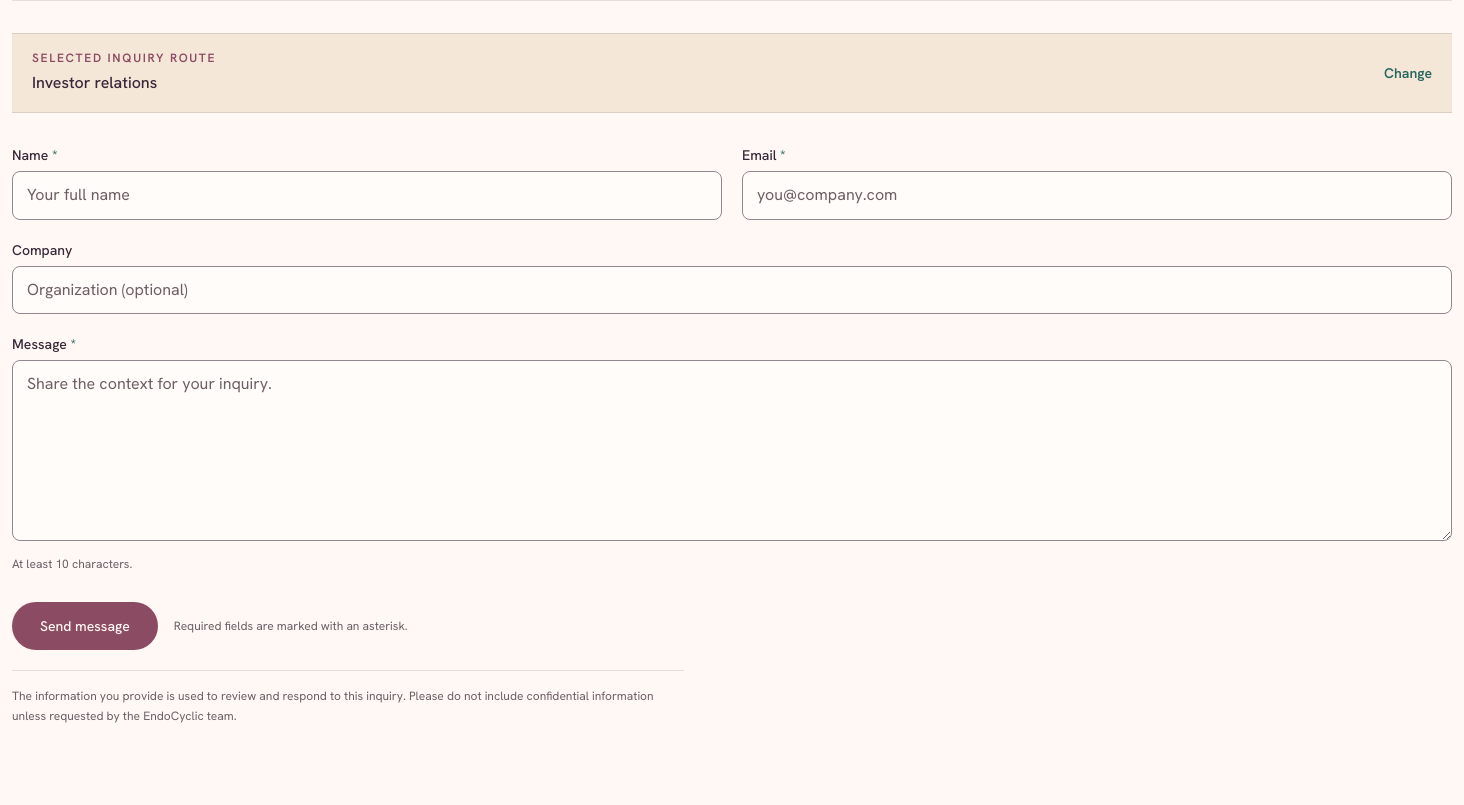
Test case: ContactForm subject chooser › focuses the selected radio when a routed subject is changed
What coordinates should you click on to do the following:
click the button "Change"
I would click on:
 (1408, 73)
Its box is [1384,51,1432,95].
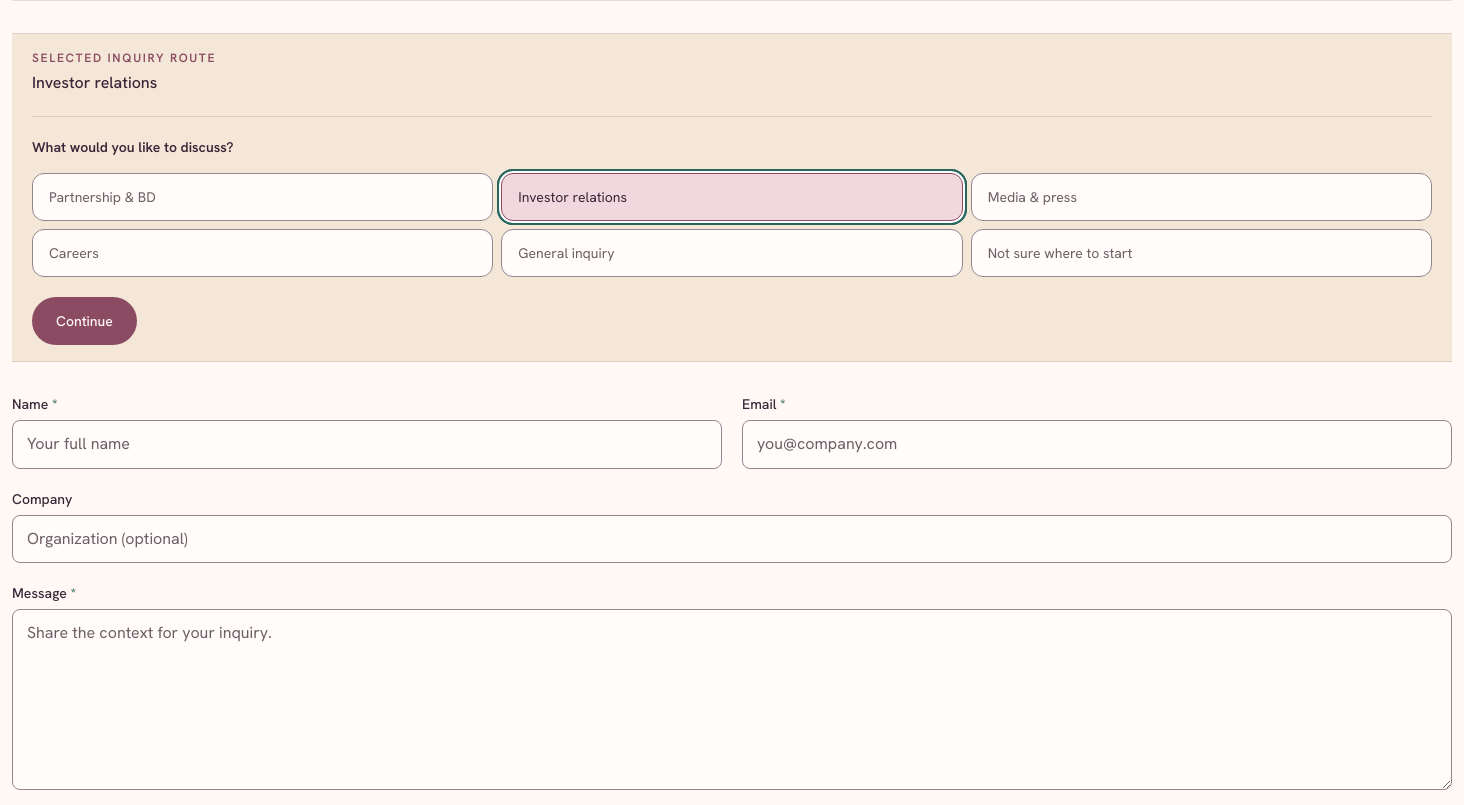
Now the button "Continue" is expanded, box [32,297,137,345]
